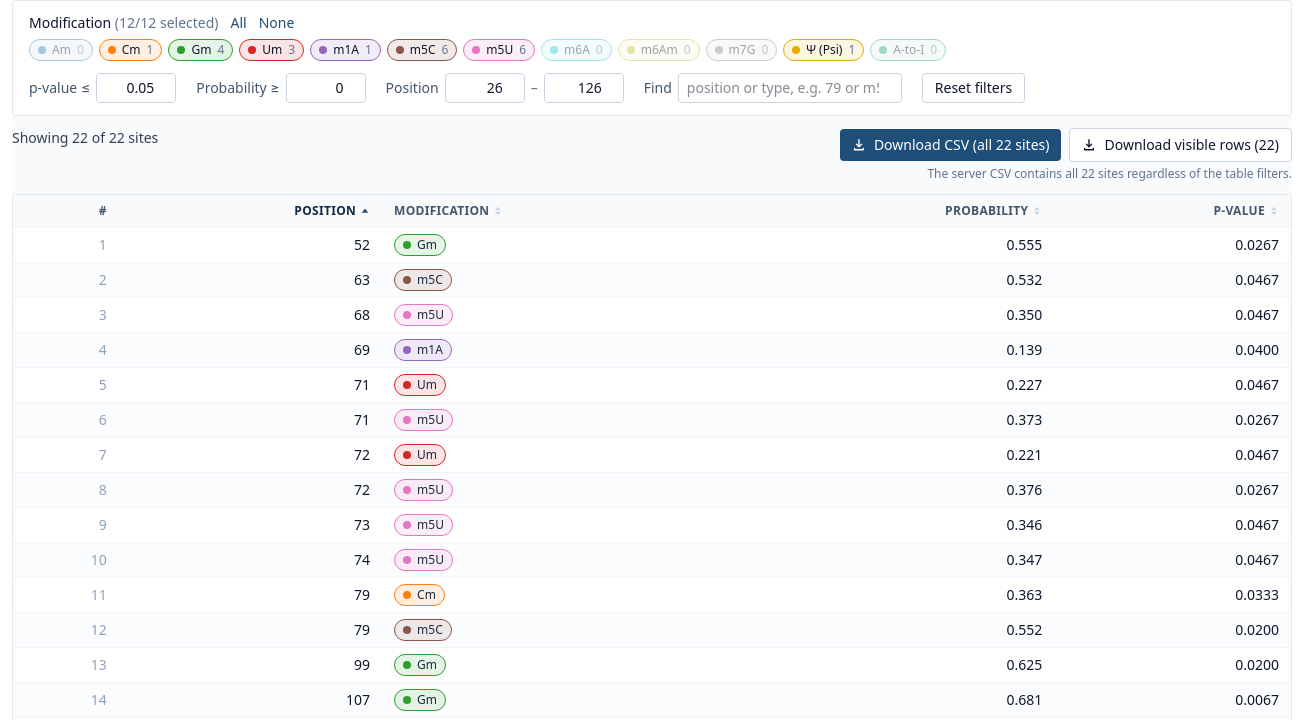
it: ResultsTable (golden fixture) › modification chips filter rows and report the visible set
Check: the button with test id "filter-mod-type-Am" is disabled, box [29,39,93,61]
Check: the button with test id "filter-mod-type-Am" shows "0", box [29,39,93,61]
Click the button with test id "filter-mod-type-none" at [277, 23], box [259,13,294,33]
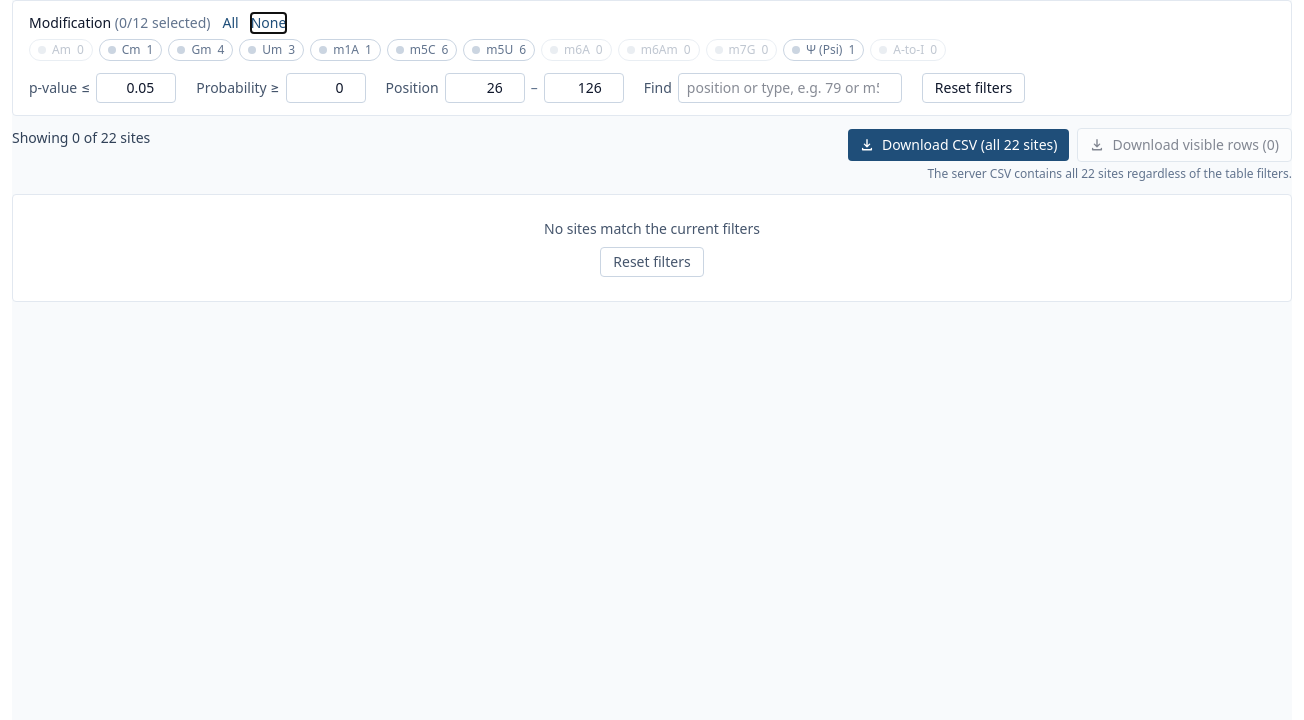
Check: the element with test id "results-empty" shows "No sites match the current filters", box [544,219,760,238]
Check: the text with test id "visible-count" reads "Showing 0 of 22 sites", box [12,128,150,148]
Click the button with test id "filter-mod-type-m5C" at [422, 50], box [387,39,457,61]
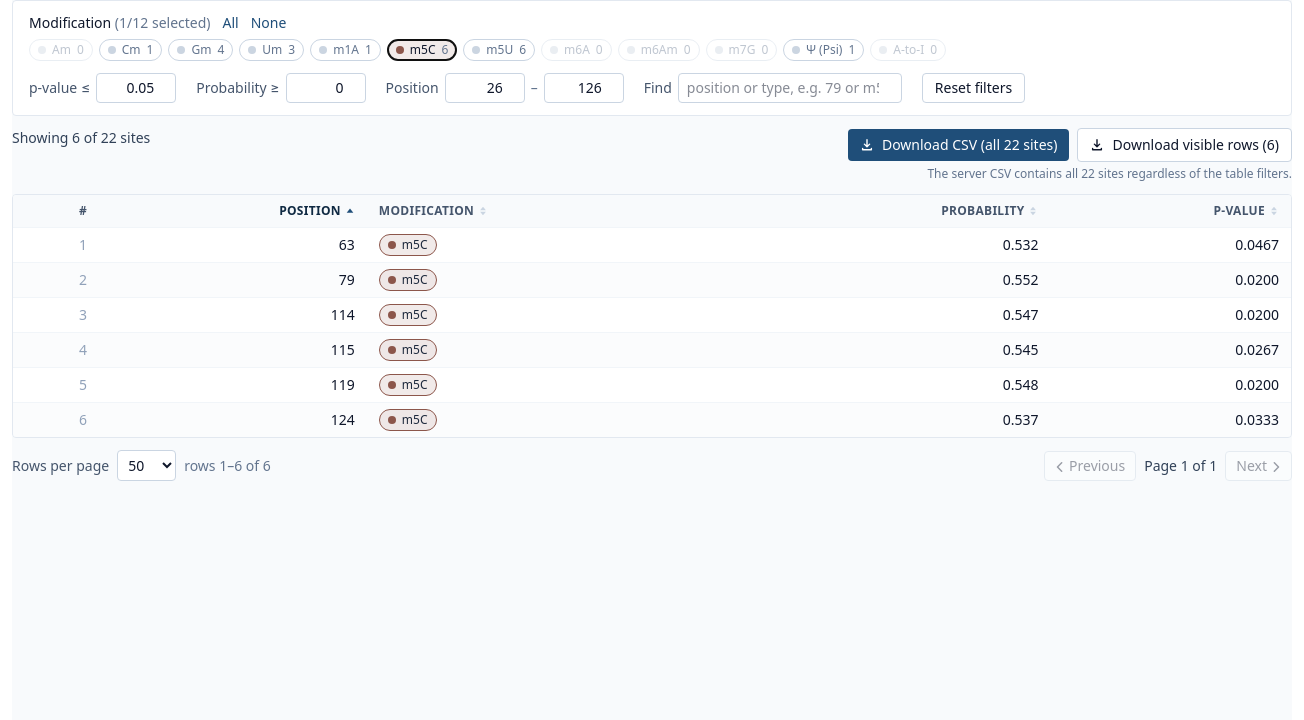
Check: the number of rows with test id "result-row" is 6, box [13,228,1291,262]; [13,262,1291,298]; [13,298,1291,332]; [13,332,1291,368]; [13,368,1291,402]; [13,402,1291,437]
Check: the text with test id "visible-count" reads "Showing 6 of 22 sites", box [12,128,150,148]
Click the button with test id "filter-mod-type-all" at [231, 23], box [222,13,239,33]
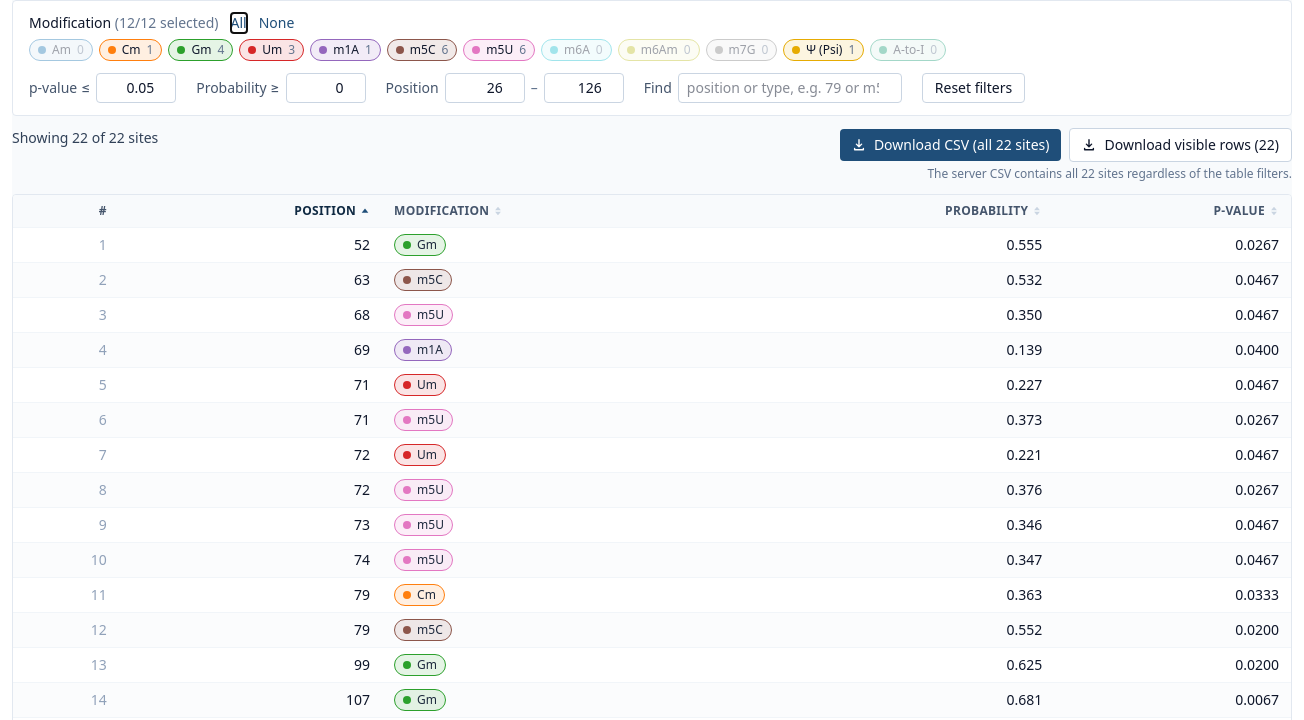
Check: the number of rows with test id "result-row" is 22
